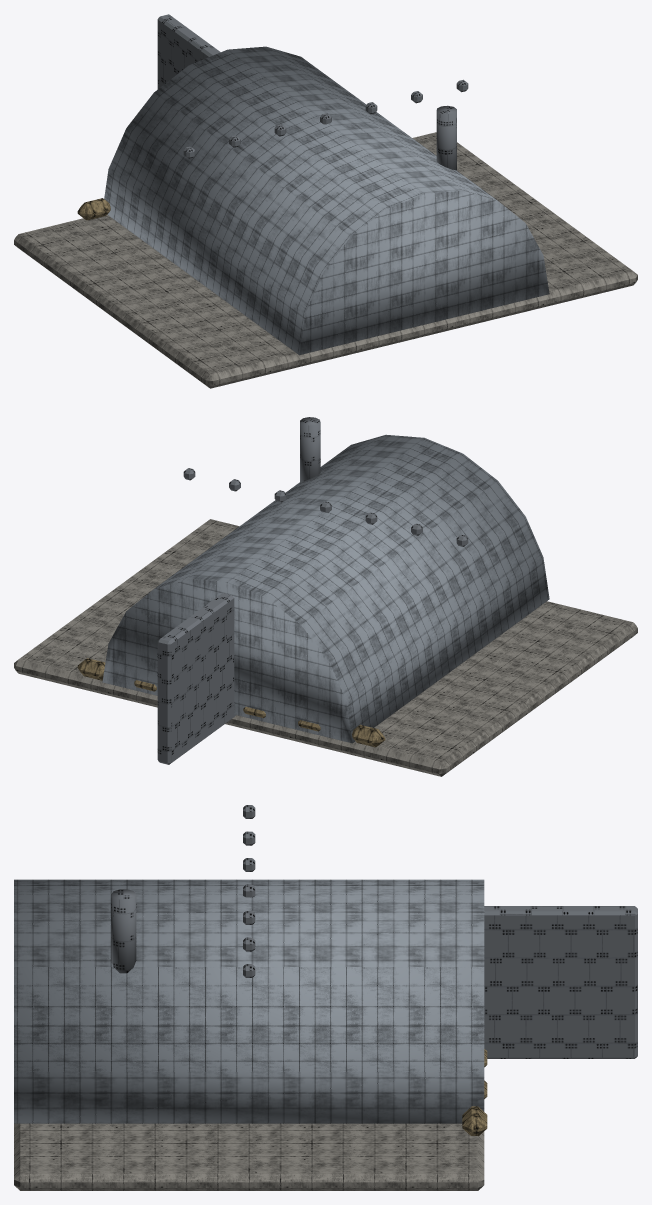
The model's file is barracks.gltf.
3 views of the same model, one above another, from view 1: azimuth 30°, elevation 25°; view 2: azimuth 150°, elevation 25°; view 3: azimuth 270°, elevation 25° (orthographic). The views are drawn at different scales.
Parts seen in each view (by area): view 1: quonset, pad, front_wall, chimney, bag0; view 2: quonset, pad, front_wall, chimney, bag0; view 3: quonset, pad, front_wall, chimney, bag5.
Part boxes in pixels (<box>): quonset: <box>104,46,549,355</box>; pad: <box>14,132,637,388</box>; front_wall: <box>157,14,220,89</box>; chimney: <box>436,105,456,170</box>; bag0: <box>77,198,110,220</box>; quonset: <box>102,434,549,743</box>; pad: <box>14,519,637,776</box>; front_wall: <box>157,593,235,764</box>; chimney: <box>300,417,320,481</box>; bag0: <box>352,724,385,747</box>; quonset: <box>14,879,484,1123</box>; pad: <box>14,1123,484,1190</box>; front_wall: <box>484,906,637,1058</box>; chimney: <box>111,889,136,973</box>; bag5: <box>462,1106,487,1136</box>.
Size of the model in its own units: 190 by 75 by 199.
Materials: 5 (5 with a texture image).
